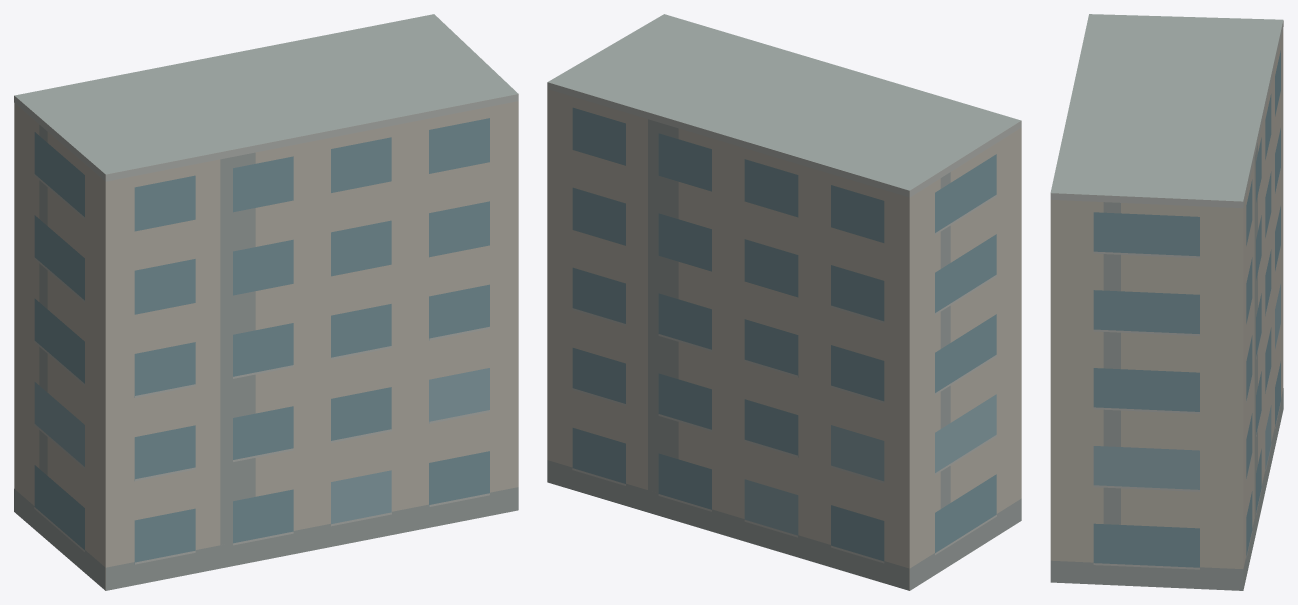
File: survey-upis-32575988.glb
3 renders of one model, left to right at view 1: azimuth 30°, elevation 25°; view 2: azimuth 150°, elevation 25°; view 3: azimuth 270°, elevation 25°, orthographic. The views are drawn at different scales.
Parts seen in each view (by area): view 1: survey-upis-32575988.tmp; view 2: survey-upis-32575988.tmp; view 3: survey-upis-32575988.tmp.
Part boxes in pixels (bbox=[...]): survey-upis-32575988.tmp: bbox=[14, 14, 518, 590]; survey-upis-32575988.tmp: bbox=[547, 14, 1021, 590]; survey-upis-32575988.tmp: bbox=[1050, 14, 1283, 590].
Bounding box in the file's own units: 14.68 × 14.2 × 7.71.
